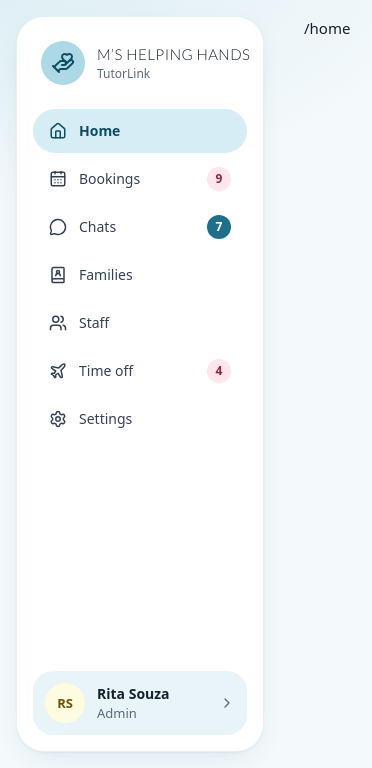
Test case: app shell from 1024px › opens Profile from the person card
The width and height of the screenshot is (372, 768).
Click the button "RS Rita Souza Admin": (140,703) left=33, top=671, right=247, bottom=735
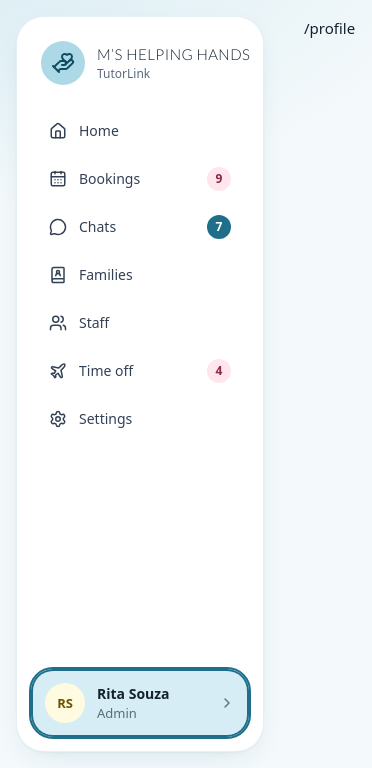
Expected: the text with test id "path" reads "/profile", left=304, top=18, right=355, bottom=38
